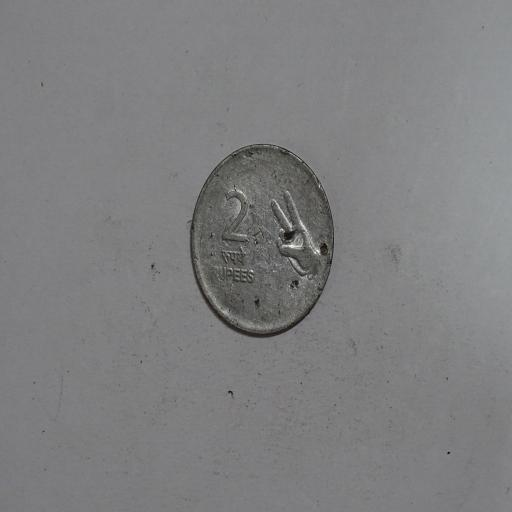rupee2: (189, 144, 334, 334)
